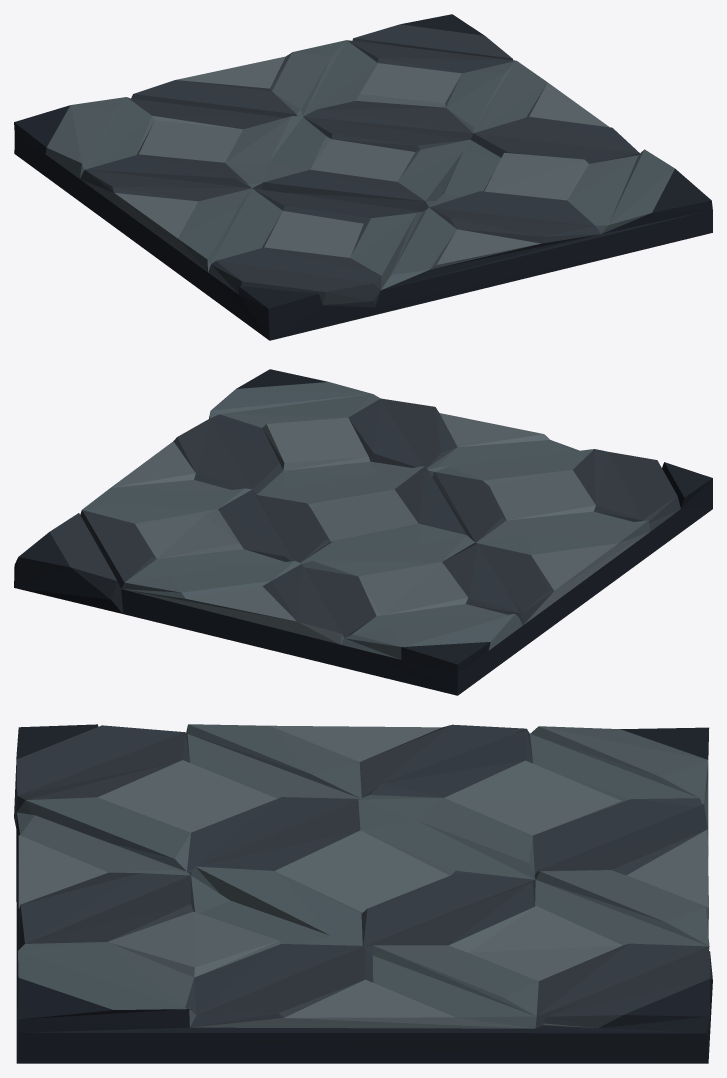
Rendered from MDungeon_FloorTiles_01.FBX.
3 renders of one model, top to bottom at view 1: azimuth 30°, elevation 25°; view 2: azimuth 150°, elevation 25°; view 3: azimuth 270°, elevation 25°, orthographic. The views are drawn at different scales.
Parts seen in each view (by area): view 1: MDungeon_FloorTiles_01_LOD0; view 2: MDungeon_FloorTiles_01_LOD0; view 3: MDungeon_FloorTiles_01_LOD0.
Part boxes in pixels (x1=…): MDungeon_FloorTiles_01_LOD0: x1=14, y1=14, x2=712, y2=340; MDungeon_FloorTiles_01_LOD0: x1=14, y1=369, x2=712, y2=695; MDungeon_FloorTiles_01_LOD0: x1=14, y1=724, x2=712, y2=1063.
Size of what is drawn, in the model's own units: 6.04 by 0.5262 by 6.07.
